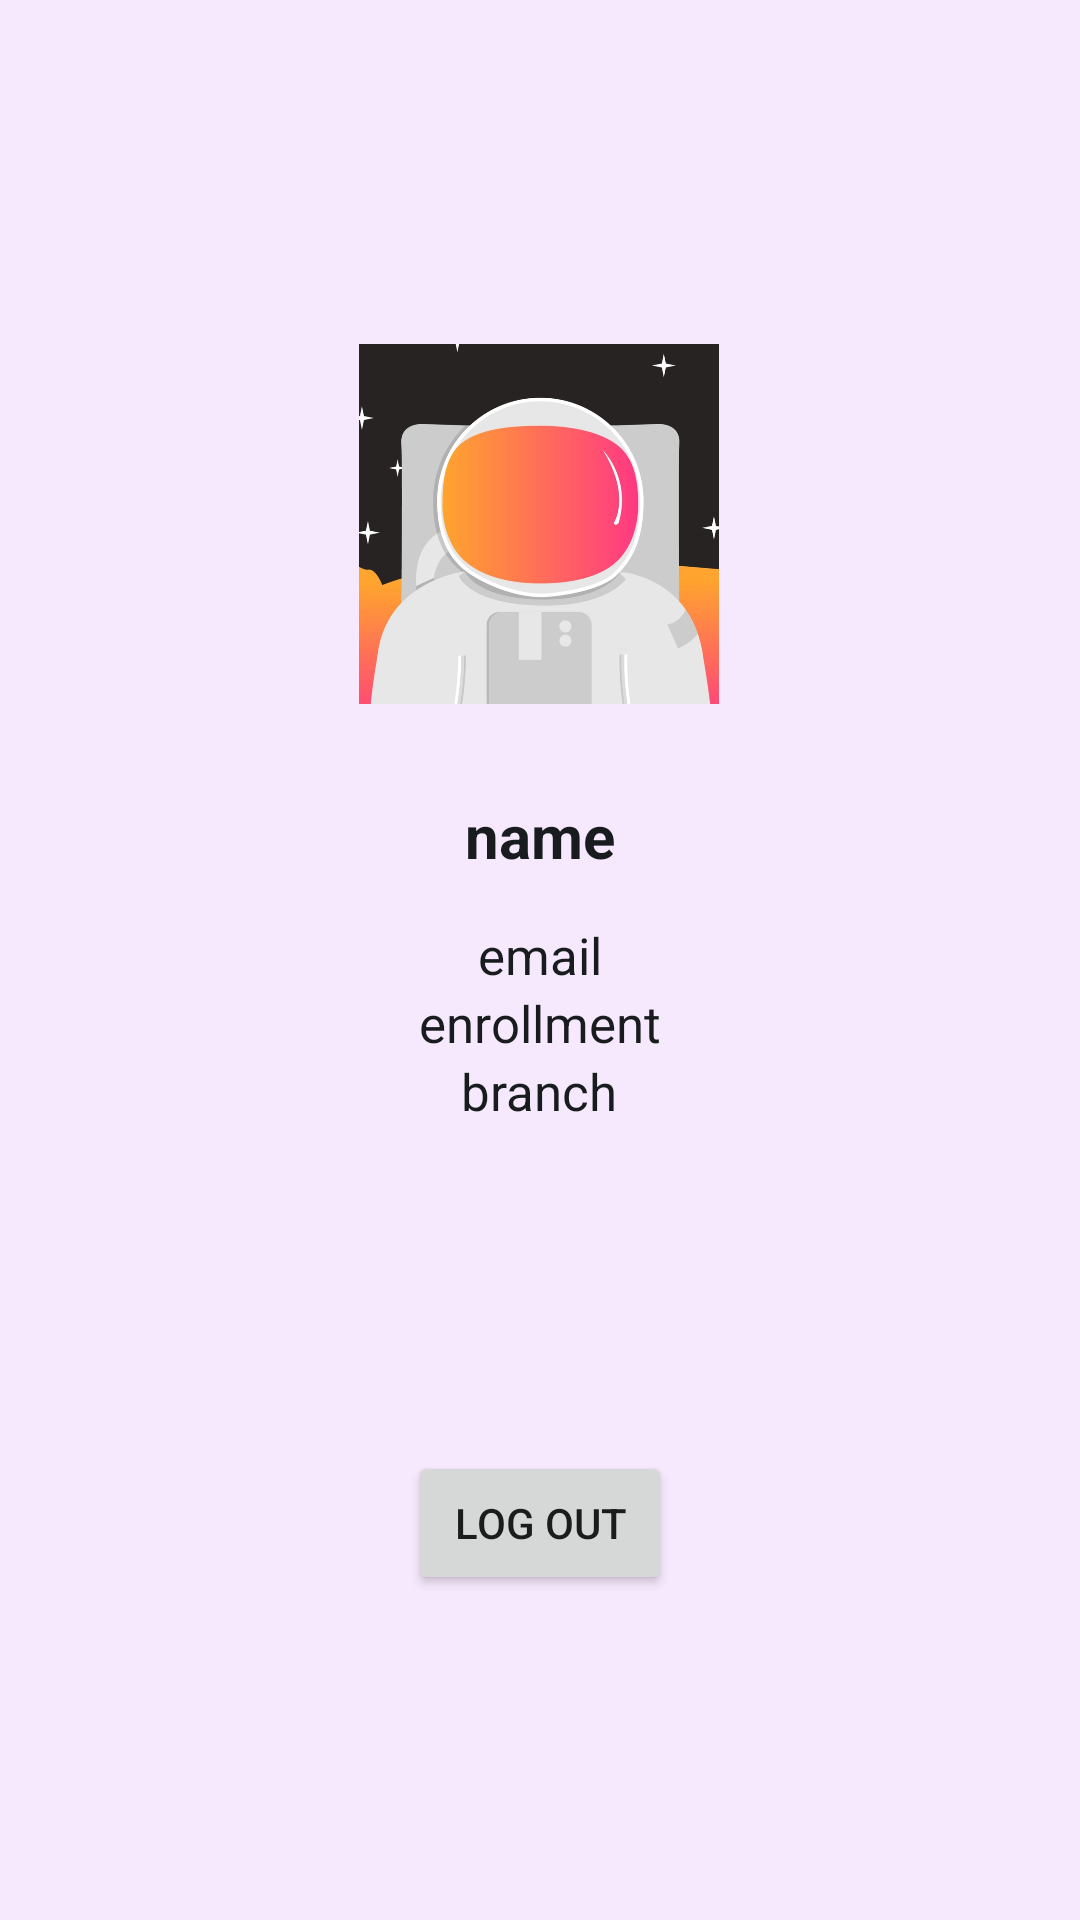

Icon click points for this 1080w x 1920h phone screenshot, format [x,y]:
astrodefault: [539,524]
